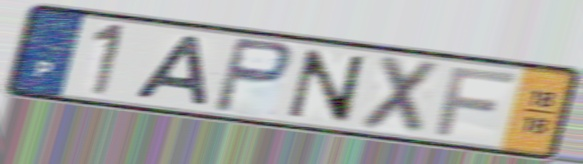1: (88, 22, 127, 99)
A: (131, 32, 213, 110)
F: (431, 64, 520, 139)
N: (285, 47, 368, 127)
P: (209, 34, 295, 116)
X: (354, 52, 446, 139)
